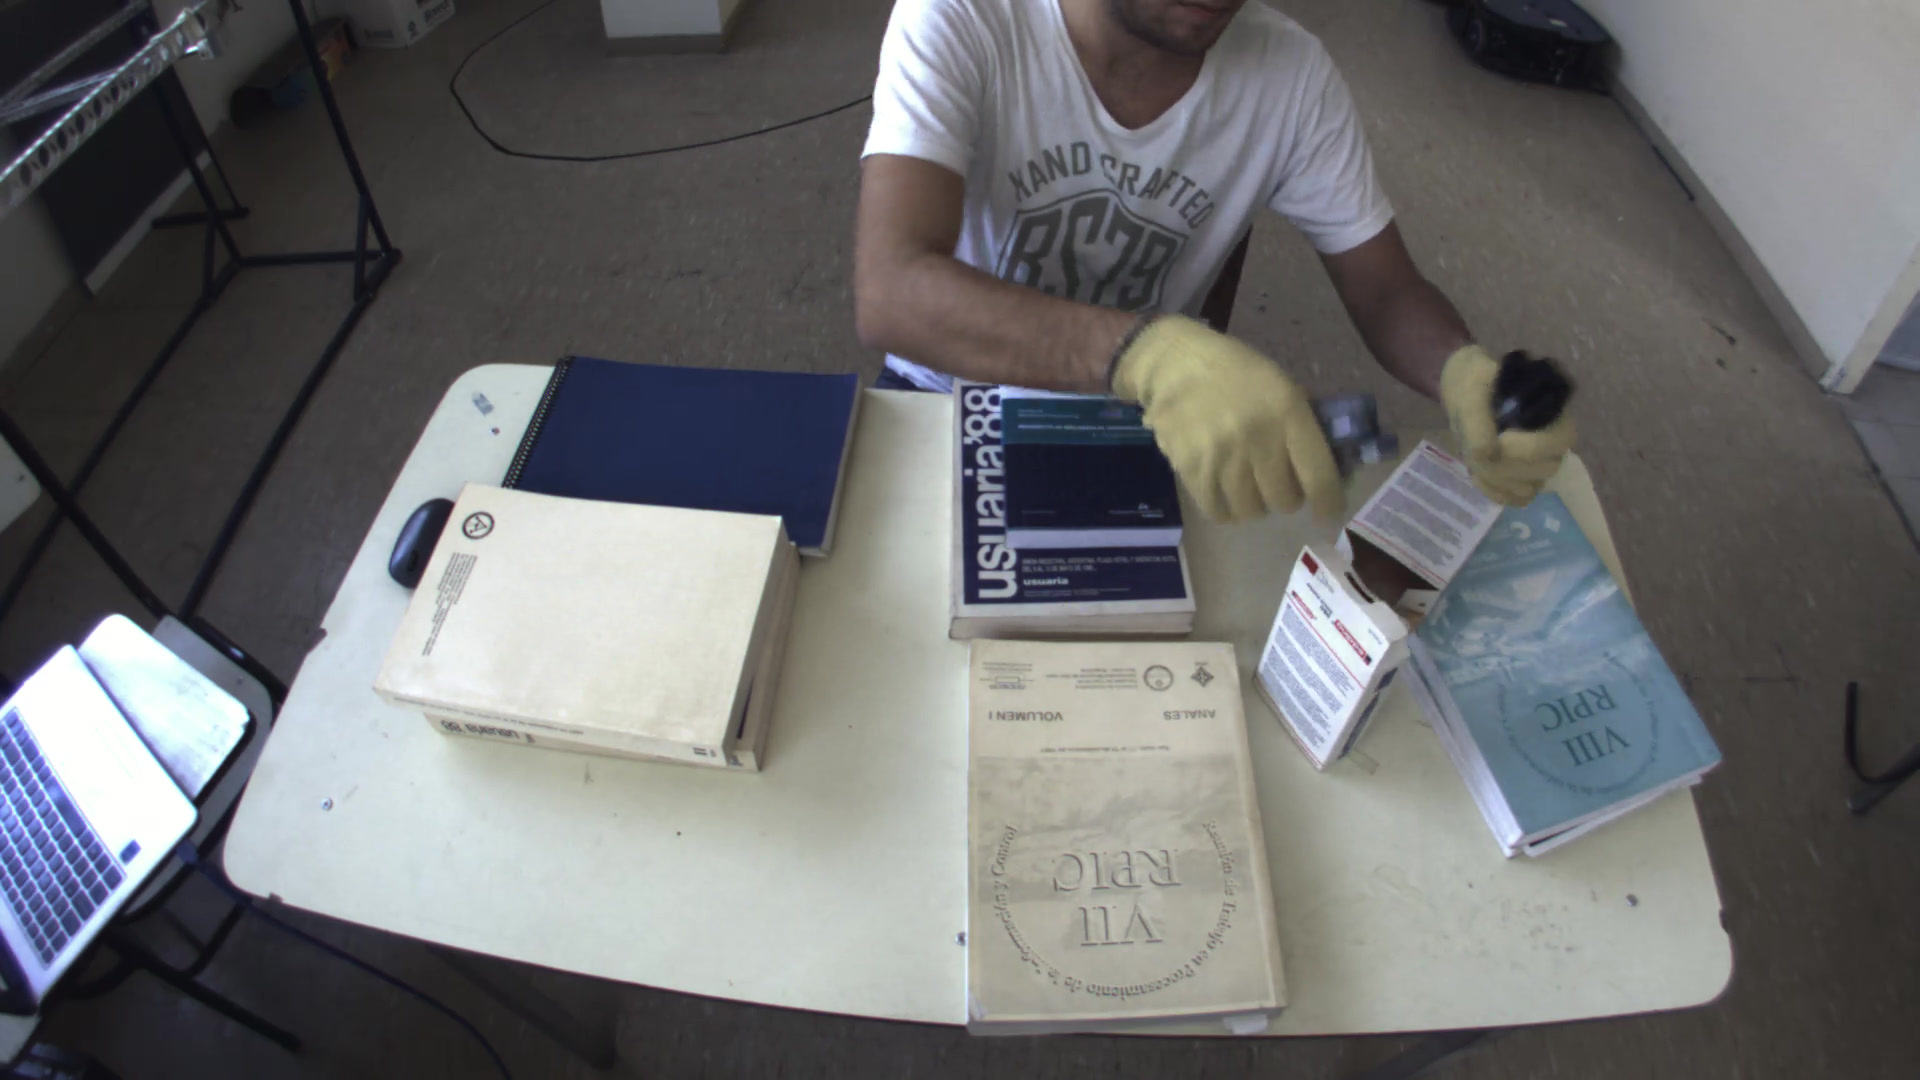hand: (1106, 305, 1352, 527), (1433, 342, 1592, 517)
